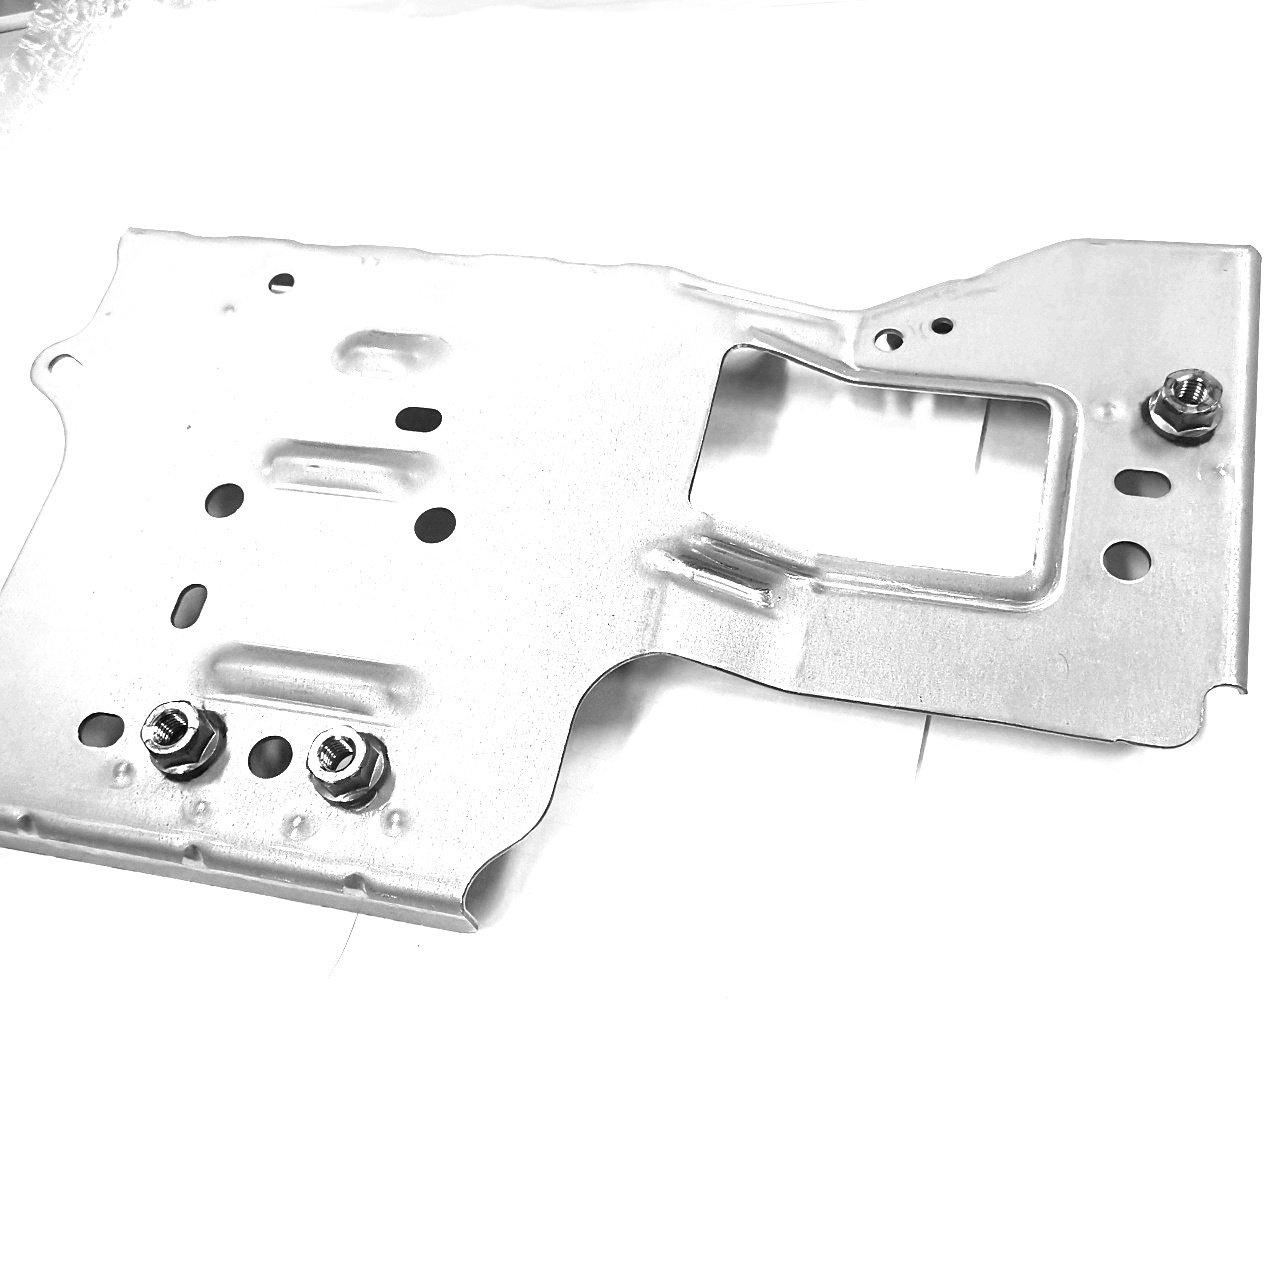dog: (136, 697, 236, 788), (302, 722, 396, 812), (1138, 365, 1230, 450)
